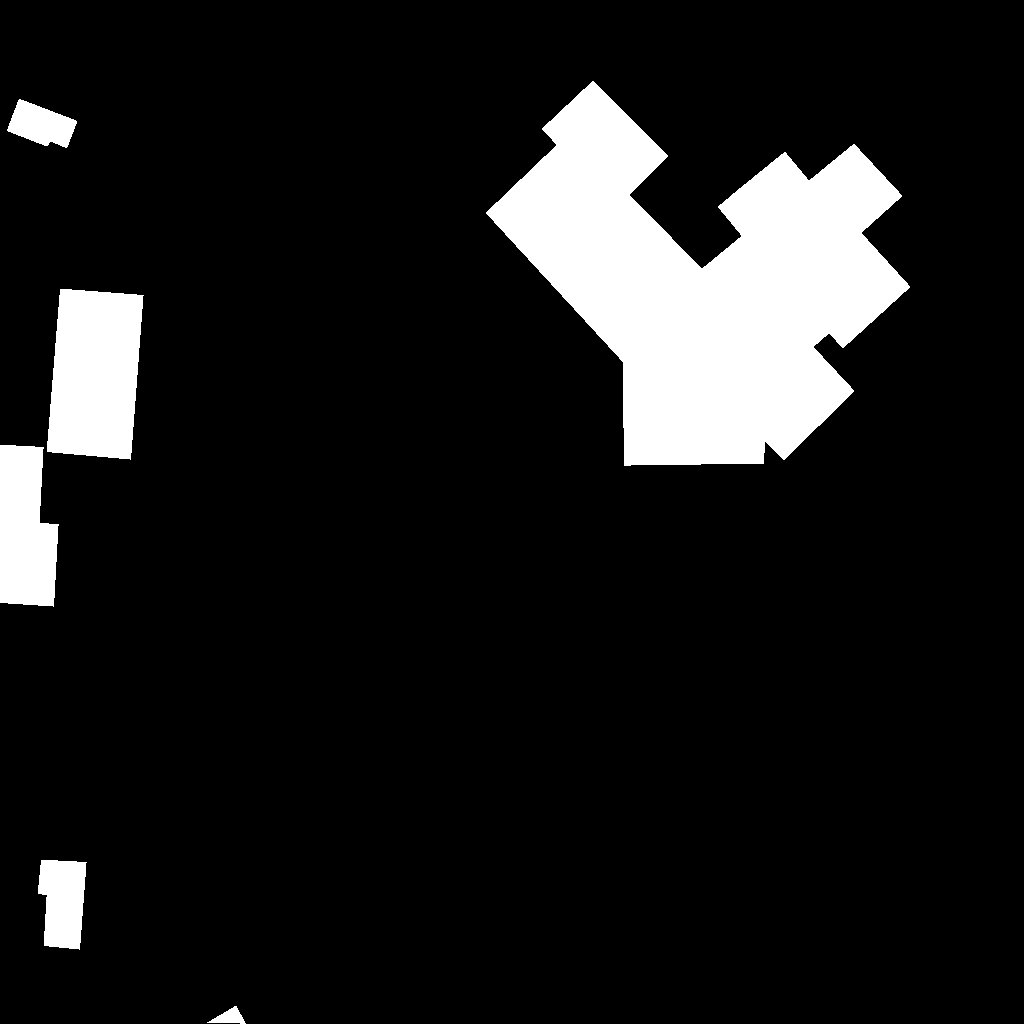building: (486, 81, 911, 466), (47, 289, 144, 460), (0, 445, 59, 607), (38, 860, 87, 950), (7, 99, 78, 149), (207, 1006, 247, 1024)
